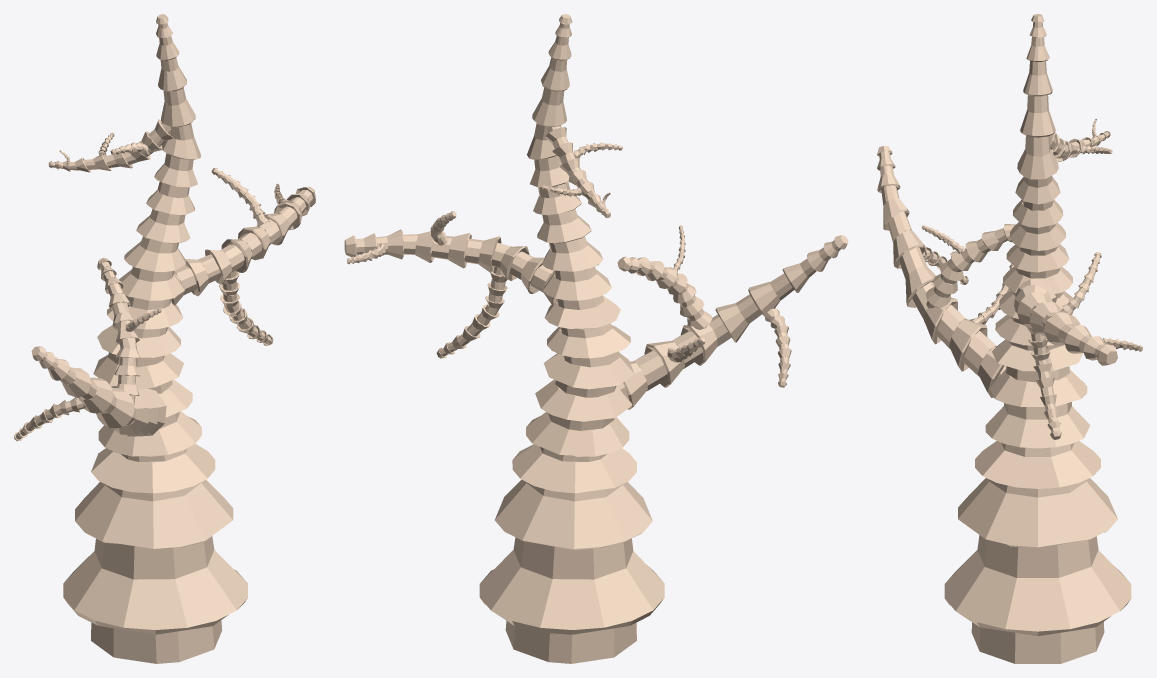
File: Spinetree.fbx
3 renders of one model, left to right at view 1: azimuth 30°, elevation 25°; view 2: azimuth 150°, elevation 25°; view 3: azimuth 270°, elevation 25°, orthographic.
Visible parts, largest first — view 1: Tree; view 2: Tree; view 3: Tree.
Part boxes in pixels (<box>): Tree: <box>14,14,315,663</box>; Tree: <box>344,14,848,663</box>; Tree: <box>877,14,1142,663</box>.
Bounding box in the file's own units: 246 × 371 × 143.
